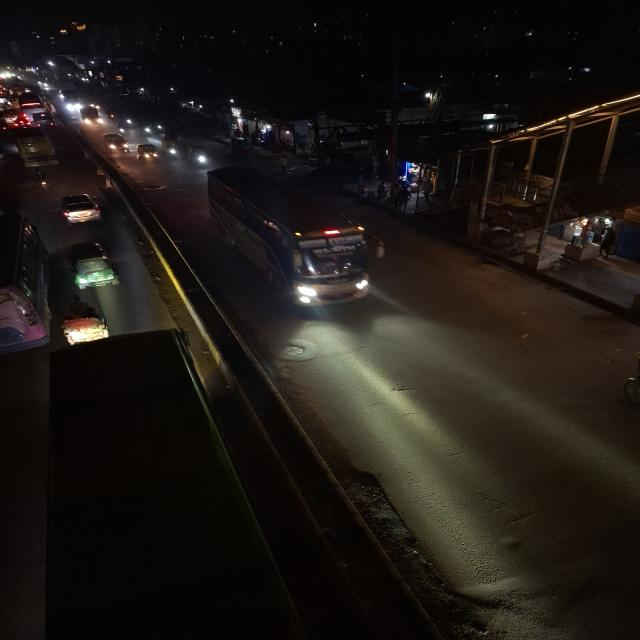bus: (203, 164, 382, 306), (0, 210, 48, 363), (12, 126, 60, 170), (19, 92, 45, 124)
car: (58, 192, 103, 226)
cng: (64, 240, 121, 292), (186, 144, 212, 170), (102, 131, 130, 155), (134, 141, 160, 165)
motorcycle: (31, 167, 53, 193)
rickshaw: (57, 294, 114, 348)
truck: (78, 104, 103, 128)
